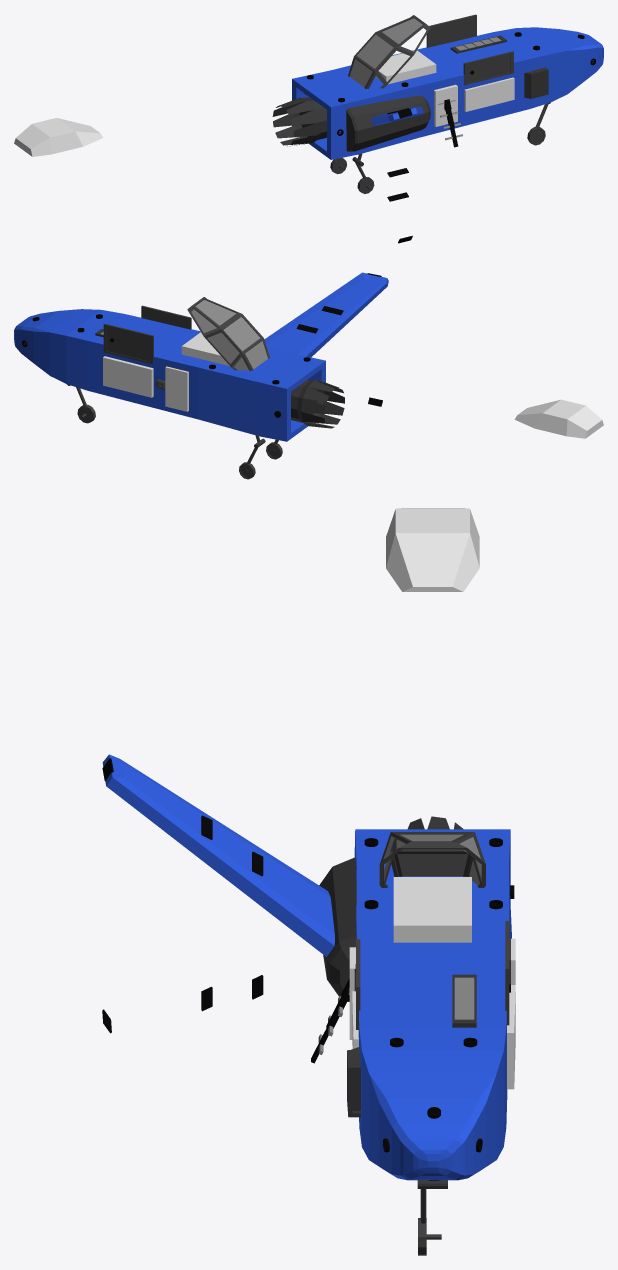
Rendered from FighterGen7_blue_open.glb.
3 renders of one model, top to bottom at view 1: azimuth 30°, elevation 25°; view 2: azimuth 150°, elevation 25°; view 3: azimuth 270°, elevation 25°, orthographic. The views are drawn at different scales.
Visible parts, largest first — view 1: Body, Cylinder, Cube.100, Cylinder.002, Cube.099, Cube.090, Cube.021, Cube.116, Cube.114, Cube.080, Cube.043, Cube.104 (+3 smaller); view 2: Body, Cube.003, Cube.100, Cylinder.002, Cube.022, Cube.114, Cube.099, Cube.072, Cube.090, Cube.104, Cube.116, Cube.102 (+2 smaller); view 3: Body, Cube.003, Cube.100, Cube.090, Cylinder, Cube.099, Cube.106.
Part boxes in pixels (bbox=[...]): Body: bbox=[292, 27, 603, 159]; Cylinder: bbox=[346, 95, 430, 151]; Cube.100: bbox=[14, 118, 103, 156]; Cylinder.002: bbox=[272, 97, 326, 146]; Cube.099: bbox=[348, 15, 430, 88]; Cube.090: bbox=[375, 50, 436, 84]; Cube.021: bbox=[464, 77, 514, 111]; Cube.116: bbox=[463, 51, 513, 85]; Cube.114: bbox=[426, 14, 476, 47]; Cube.080: bbox=[434, 84, 457, 126]; Cube.043: bbox=[524, 67, 548, 98]; Cube.104: bbox=[357, 34, 393, 68]; Body: bbox=[14, 309, 325, 441]; Cube.003: bbox=[264, 272, 388, 357]; Cube.100: bbox=[515, 399, 603, 438]; Cylinder.002: bbox=[291, 379, 344, 428]; Cube.022: bbox=[103, 356, 153, 397]; Cube.114: bbox=[103, 323, 153, 364]; Cube.099: bbox=[187, 297, 269, 370]; Cube.072: bbox=[165, 366, 188, 411]; Cube.090: bbox=[181, 332, 229, 365]; Cube.104: bbox=[224, 317, 260, 350]; Cube.116: bbox=[141, 305, 191, 329]; Cube.102: bbox=[195, 299, 236, 325]; Body: bbox=[354, 829, 511, 1180]; Cube.003: bbox=[102, 754, 334, 956]; Cube.100: bbox=[386, 508, 479, 591]; Cube.090: bbox=[393, 877, 471, 942]; Cylinder: bbox=[319, 857, 356, 1001]; Cube.099: bbox=[379, 832, 485, 887]; Cube.106: bbox=[397, 854, 468, 876].
Bounding box in the file's own units: 33.95 × 8.44 × 10.52.
